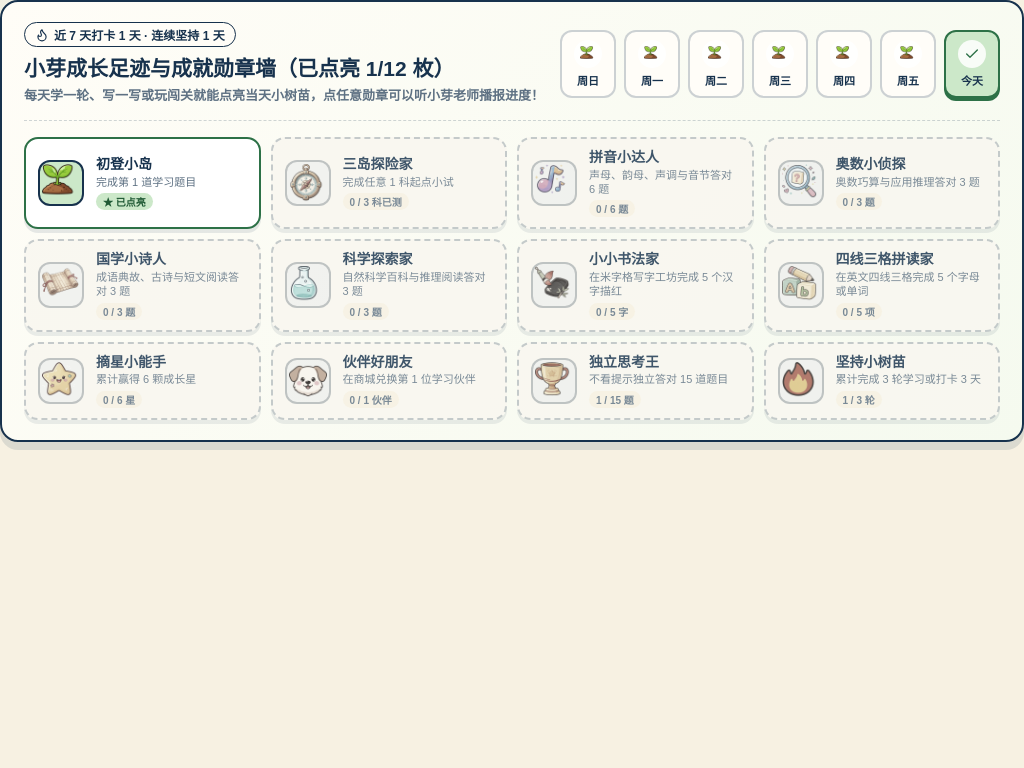
MistakeNotebookScreen, A4 dynamic generator, enrichment tools & StreakBadgeWall › renders the 7-day learning streak calendar and 12 achievement badges wall
The image size is (1024, 768).
Check: the element with test id "streak-badge-wall" is shown, box [0,0,1023,442]
Click the button with test id "badge-card-first-step": (142,183) [24,137,260,229]
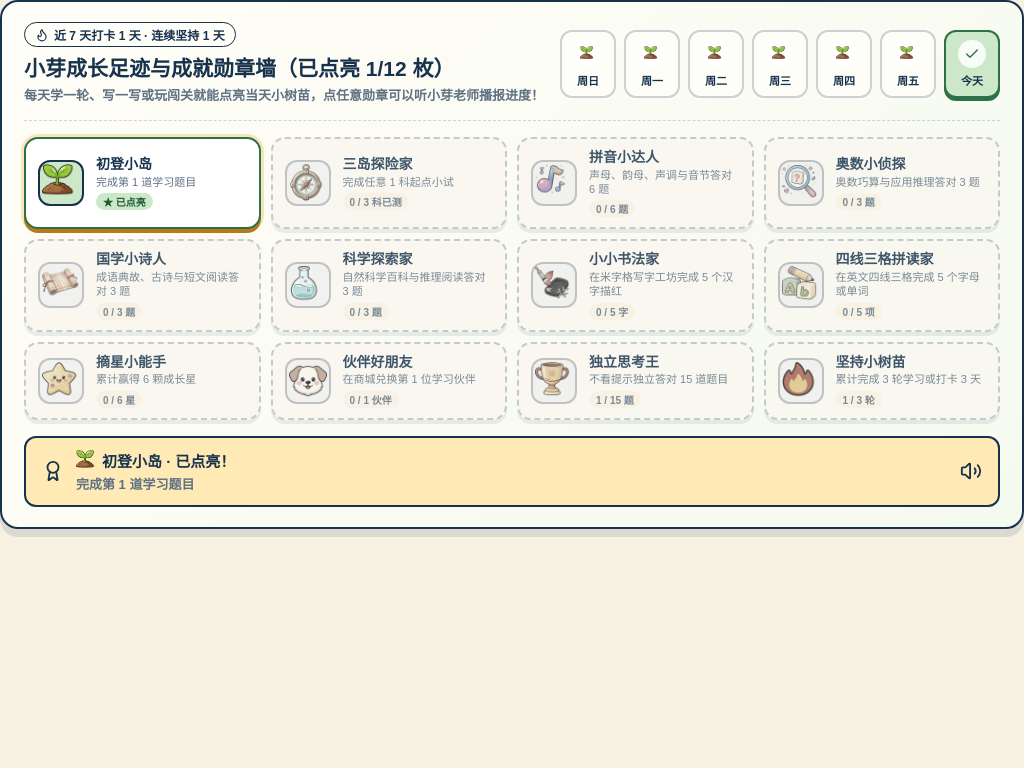
Check: the message with test id "badge-detail-toast" shows "初登小岛", box [102,453,162,470]
